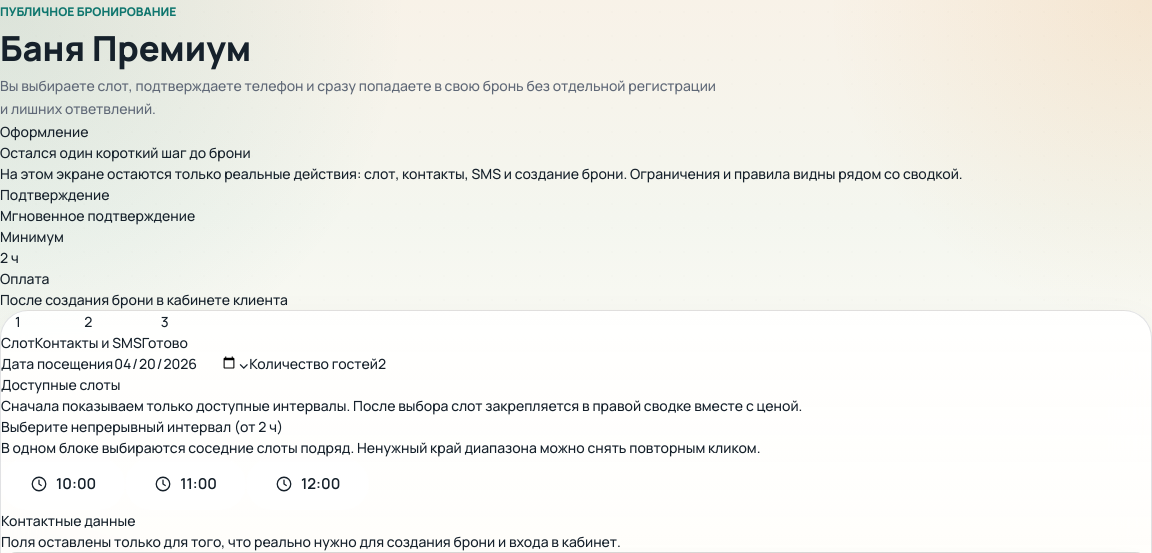
Scenario: PublicCheckout › does not render separate duration controls
This screenshot has width=1152, height=553.
Click the button "10:00" at (63,484), box [1,458,125,510]
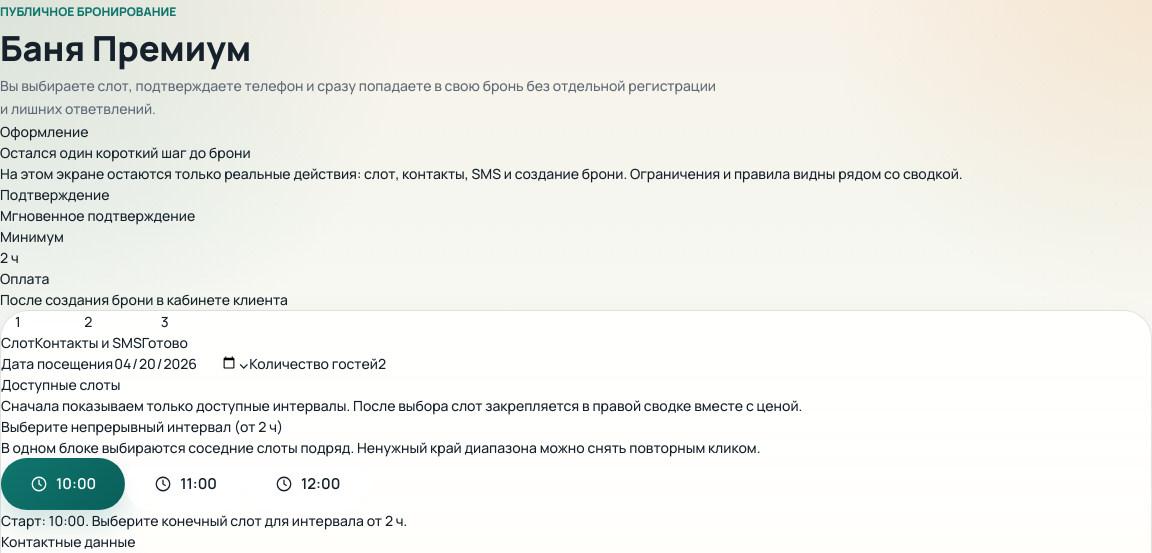
Now the text "Старт: 10:00. Выберите конечный слот для интервала от 2 ч." is shown, box [1,510,407,530]
